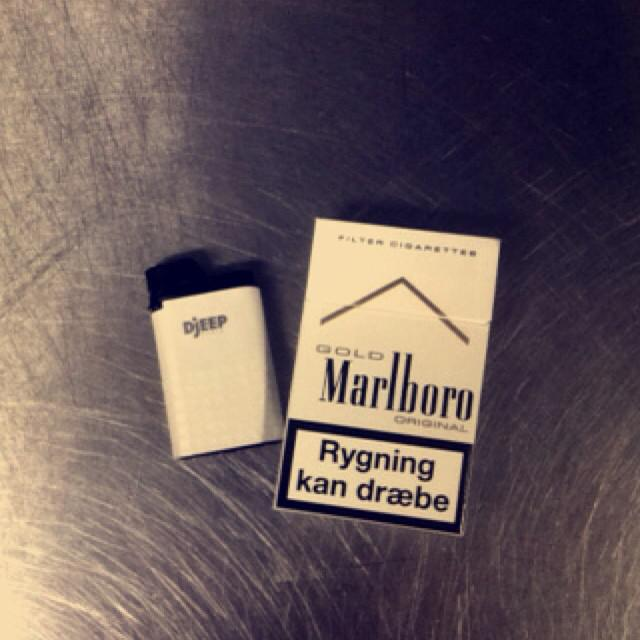marlboro_gold: (294, 233, 469, 511)
